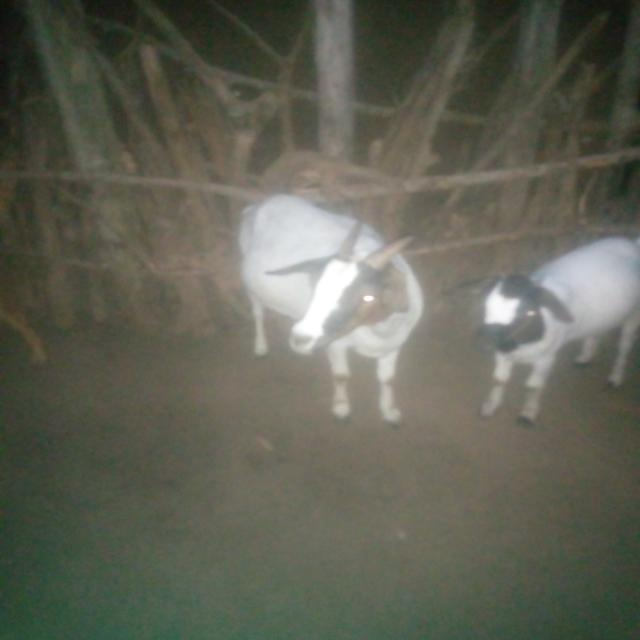goat: (197, 159, 456, 460)
